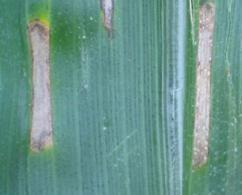Gray_Leaf_Spot: (23, 0, 58, 155), (188, 0, 218, 177), (96, 0, 122, 40)
